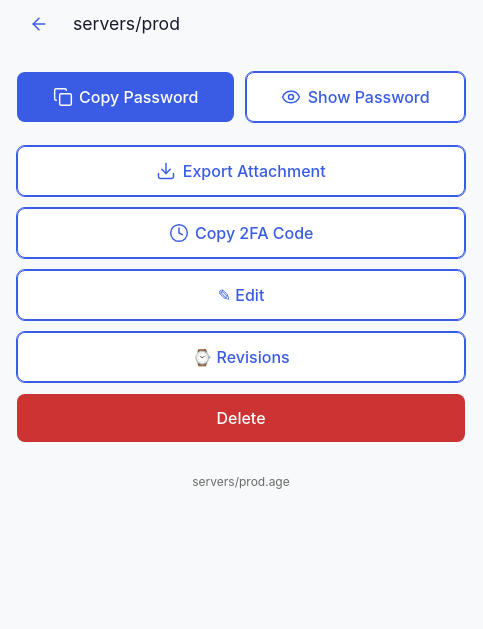
EntryDetailPage › security lifecycle › clears sensitive data on unmount
Step 1. Click the button with aria-label "Show password" → [356, 97], box [246,72,465,122]
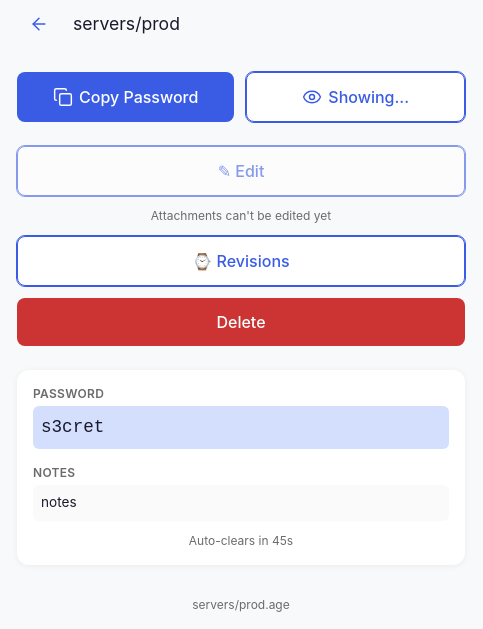
Expected: the text "s3cret" is shown, [33,406,449,449]
